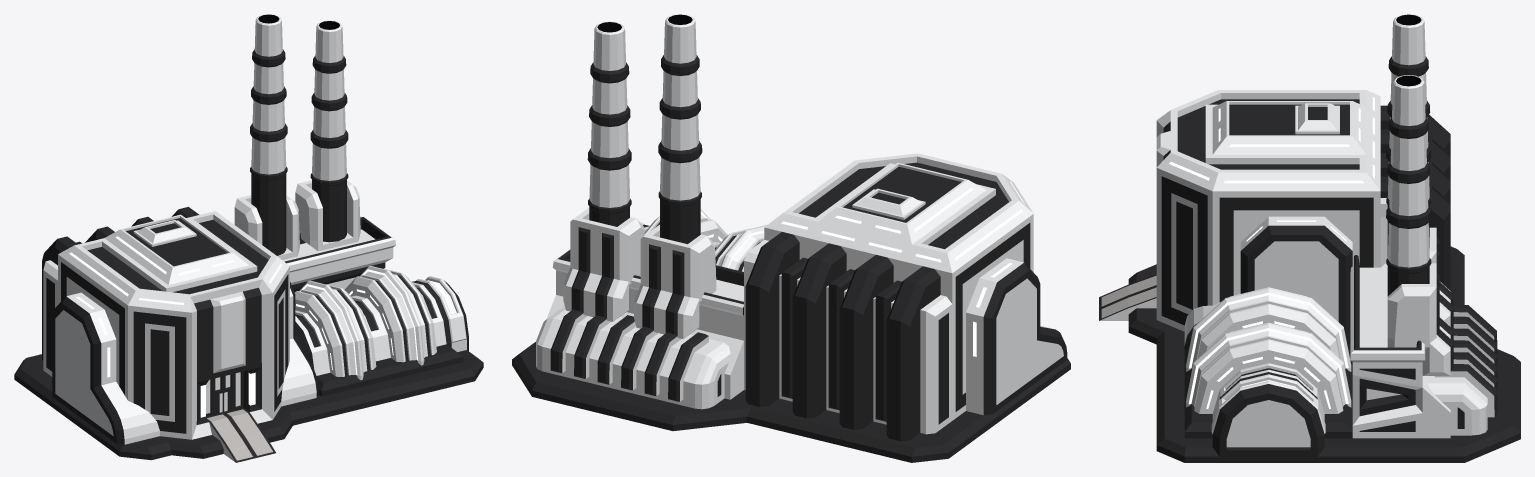
The model's file is coalplant.glb.
The picture shows the model from 3 angles, left to right: view 1: azimuth 30°, elevation 25°; view 2: azimuth 150°, elevation 25°; view 3: azimuth 270°, elevation 25°; orthographic projection. The views are drawn at different scales.
Visible parts, largest first — view 1: CoalPowerStation_Body, CoalPowerStation_Chimneys, CoalPowerStation_Generator, CoalPowerStation_BodySideParts, CoalPowerStation_Foundation, CoalPowerStation_ChimneyBody, CoalPowerStation_GeneratorFoundation, CoalPowerStation_BodyPart; view 2: CoalPowerStation_BodyPart, CoalPowerStation_Chimneys, CoalPowerStation_Body, CoalPowerStation_ChimneyBody, CoalPowerStation_Foundation, CoalPowerStation_BodySideParts, CoalPowerStation_Generator; view 3: CoalPowerStation_Body, CoalPowerStation_Generator, CoalPowerStation_ChimneyBody, CoalPowerStation_Chimneys, CoalPowerStation_Foundation, CoalPowerStation_BodySideParts, CoalPowerStation_BodyPart, CoalPowerStation_GeneratorFoundation.
Boxes of the visible parts, <box> form: CoalPowerStation_Body: <box>58,211,289,462</box>; CoalPowerStation_Chimneys: <box>234,14,360,259</box>; CoalPowerStation_Generator: <box>295,266,468,380</box>; CoalPowerStation_BodySideParts: <box>52,281,318,444</box>; CoalPowerStation_Foundation: <box>14,350,483,460</box>; CoalPowerStation_ChimneyBody: <box>282,217,395,292</box>; CoalPowerStation_GeneratorFoundation: <box>295,334,463,396</box>; CoalPowerStation_BodyPart: <box>42,207,199,376</box>; CoalPowerStation_BodyPart: <box>744,232,952,441</box>; CoalPowerStation_Chimneys: <box>563,14,716,338</box>; CoalPowerStation_Body: <box>764,153,1033,420</box>; CoalPowerStation_ChimneyBody: <box>536,249,743,409</box>; CoalPowerStation_Foundation: <box>512,342,1070,462</box>; CoalPowerStation_BodySideParts: <box>966,258,1067,415</box>; CoalPowerStation_Generator: <box>640,209,767,271</box>; CoalPowerStation_Body: <box>1099,90,1380,331</box>; CoalPowerStation_Generator: <box>1186,287,1351,456</box>; CoalPowerStation_ChimneyBody: <box>1350,255,1497,438</box>; CoalPowerStation_Chimneys: <box>1386,14,1453,375</box>; CoalPowerStation_Foundation: <box>1128,246,1520,462</box>; CoalPowerStation_BodySideParts: <box>1184,216,1352,348</box>; CoalPowerStation_BodyPart: <box>1380,105,1450,290</box>; CoalPowerStation_GeneratorFoundation: <box>1184,347,1352,438</box>.
Bounding box in the file's own units: 3420 × 2783 × 2860.
Materials: 1 (1 with a texture image).
